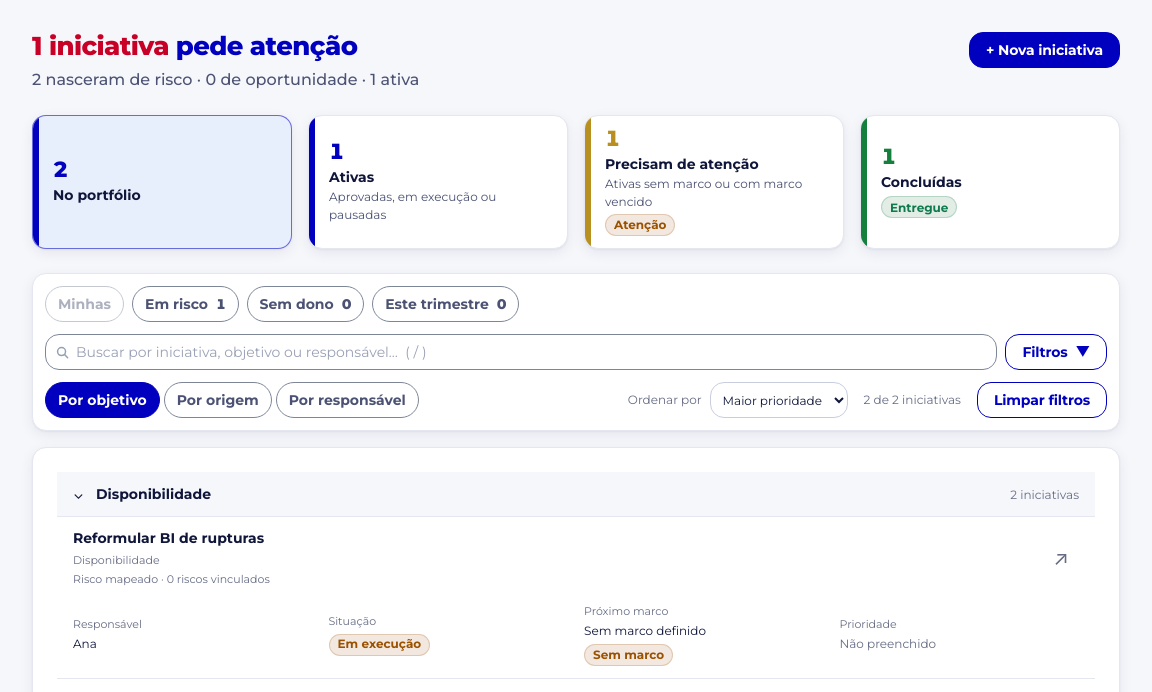
Test: indicadores filtram e grupos podem ser recolhidos
Click the button "Concluídas 1 Entregue": point(921, 182) x1=860 y1=115 x2=1120 y2=249
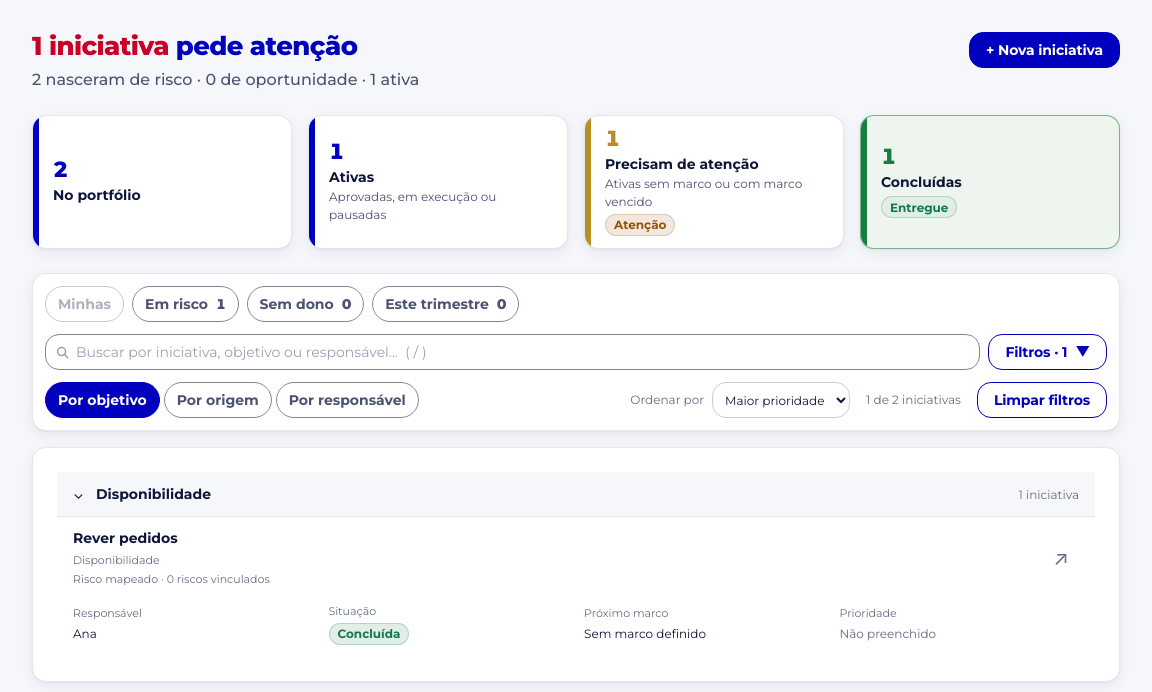
Expected: the button "Rever pedidos" is shown, x1=73 y1=529 x2=178 y2=549
Result: the button "Reformular BI de rupturas" is gone
Click the button "⌄ Disponibilidade 1 iniciativa": point(154, 494) x1=57 y1=472 x2=1095 y2=516
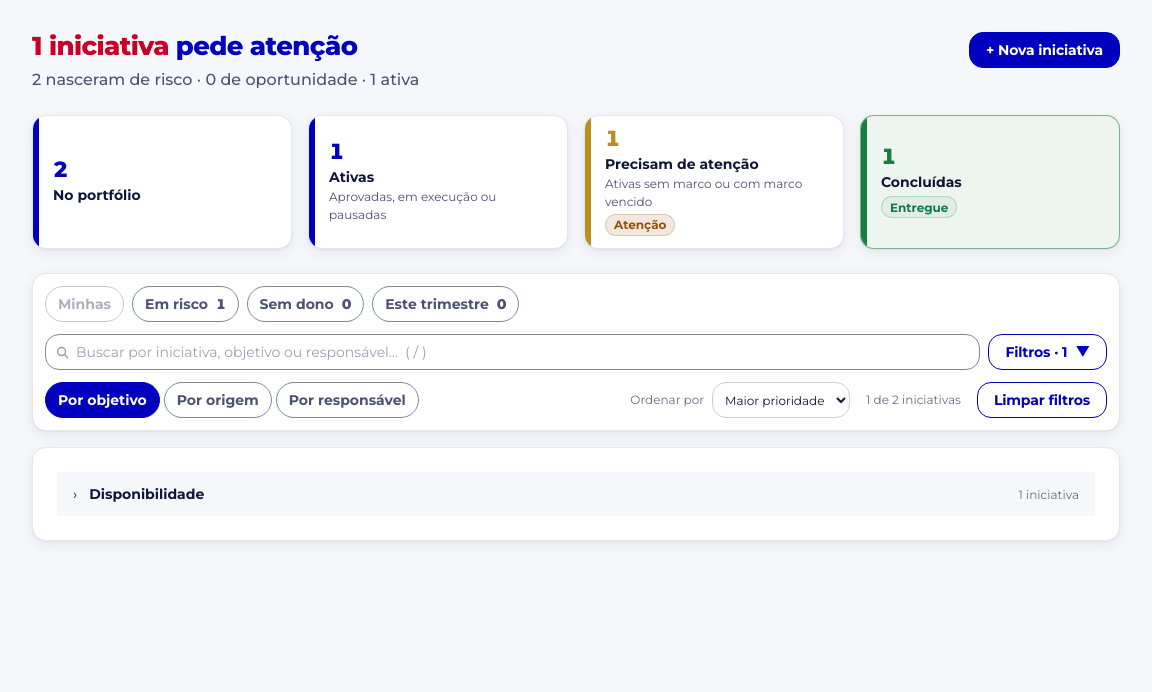
Result: the button "Rever pedidos" is gone
